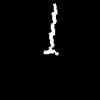half_double_crochet: (44, 4, 58, 54)
